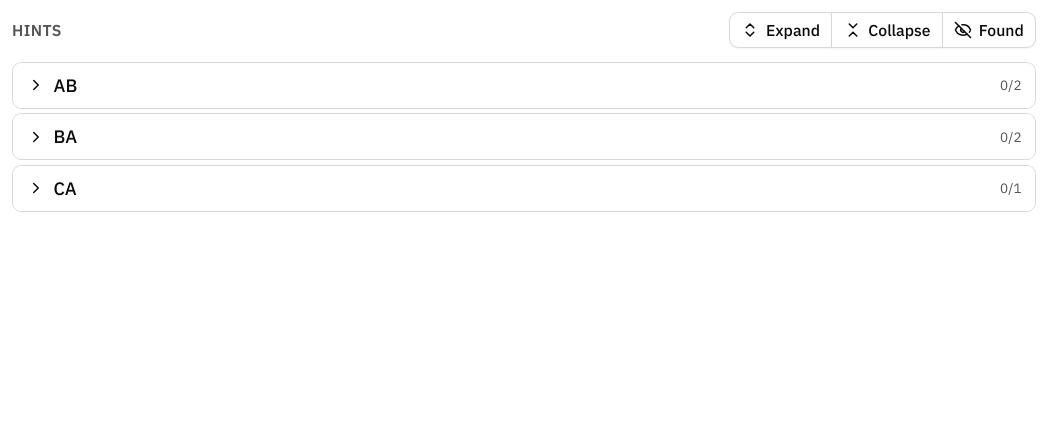
HintsList › collapsible behavior › collapses all sections when 'Collapse all' is clicked
The width and height of the screenshot is (1048, 436).
# First expand all
Step 1. Click the button with aria-label "Expand all sections" → (781, 30), box [729, 12, 832, 48]
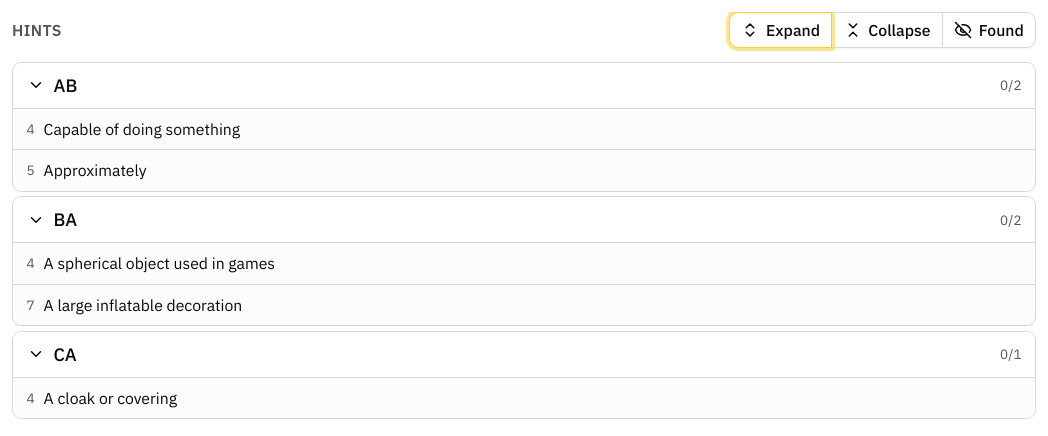
# Then collapse all
Step 2. Click the button with aria-label "Collapse all sections" → (887, 30), box [831, 12, 943, 48]
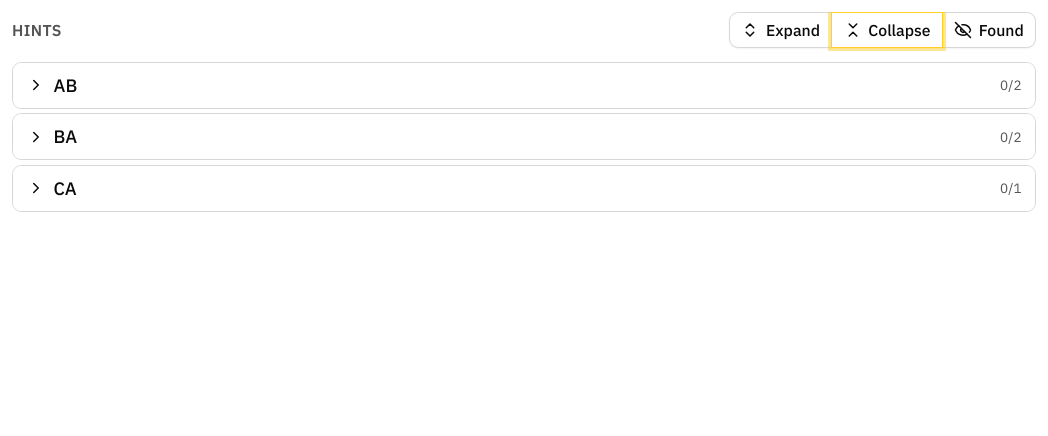
Result: the text "Capable of doing something" is gone
Result: the text "A spherical object used in games" is gone
Result: the text "A cloak or covering" is gone
